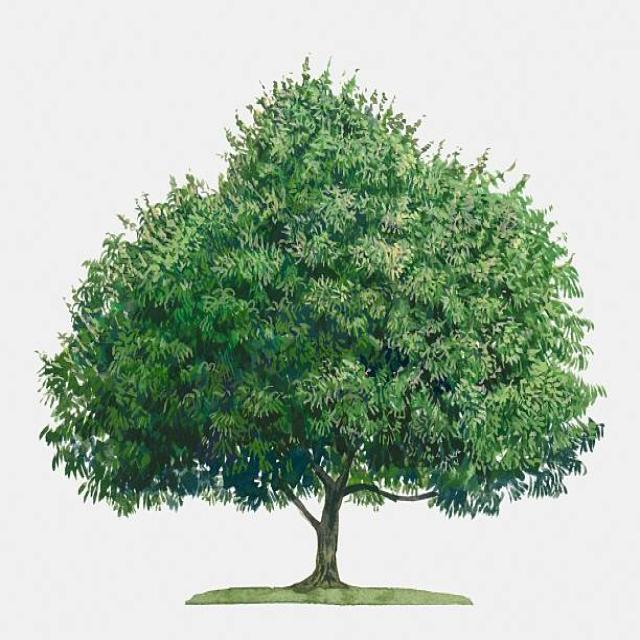Mango-Tree: (72, 74, 580, 565)
